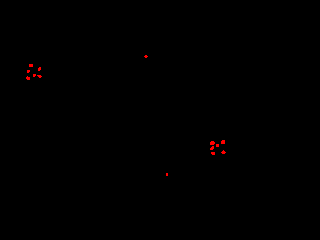Target: (210, 141, 215, 145), (221, 150, 226, 154), (26, 76, 30, 80), (221, 140, 225, 144), (210, 146, 214, 150), (37, 75, 42, 78), (144, 55, 148, 58), (29, 64, 33, 67), (38, 67, 41, 71), (211, 152, 215, 155), (27, 70, 30, 73), (33, 74, 36, 77), (216, 144, 219, 147), (166, 173, 168, 176)
